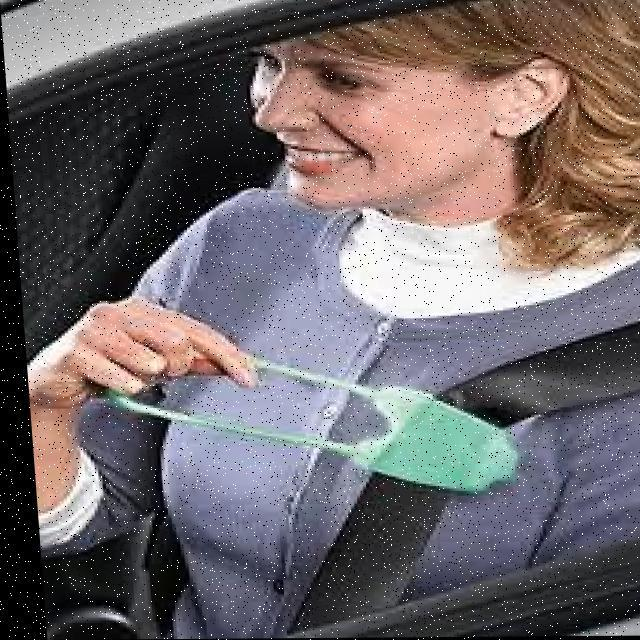seatbelt: (207, 236, 640, 624)
